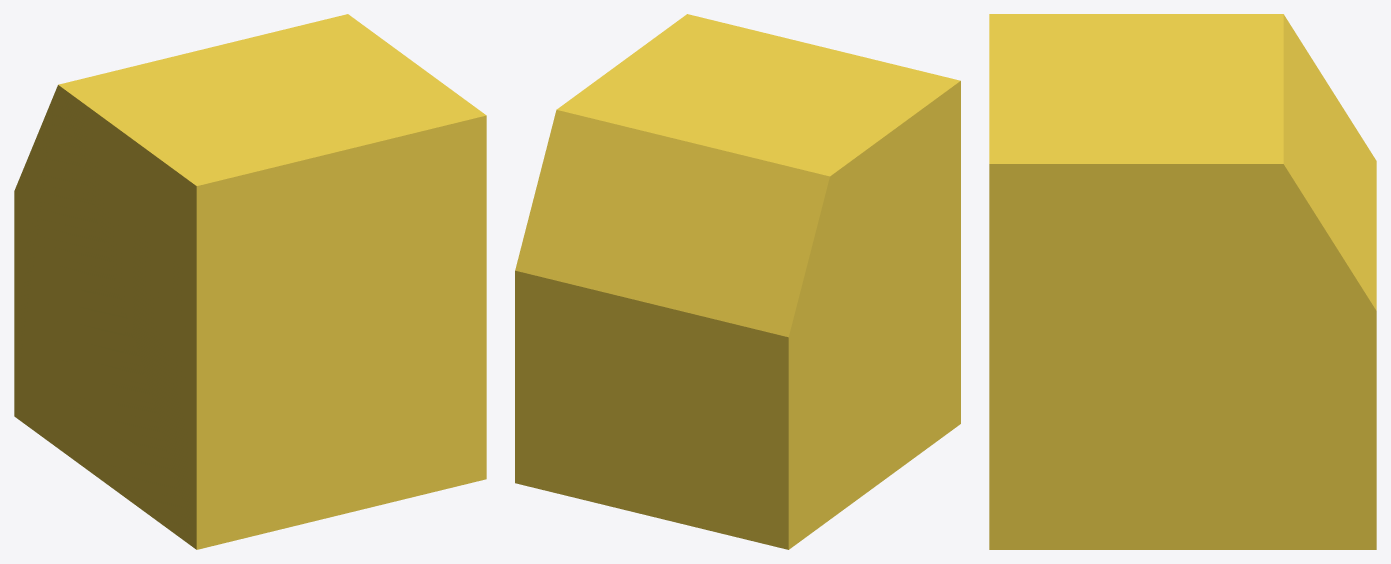
Rendered from ExcavatorCabin.fbx.
3 renders of one model, left to right at view 1: azimuth 30°, elevation 25°; view 2: azimuth 150°, elevation 25°; view 3: azimuth 270°, elevation 25°, orthographic. The views are drawn at different scales.
Parts seen in each view (by area): view 1: SketchUp; view 2: SketchUp; view 3: SketchUp.
Boxes of the visible parts, left/top/right/bottom form: SketchUp: left=14, top=14, right=486, bottom=549; SketchUp: left=515, top=14, right=960, bottom=549; SketchUp: left=989, top=14, right=1376, bottom=549.
Bounding box in the file's own units: 72.24 × 78.74 × 86.61.
